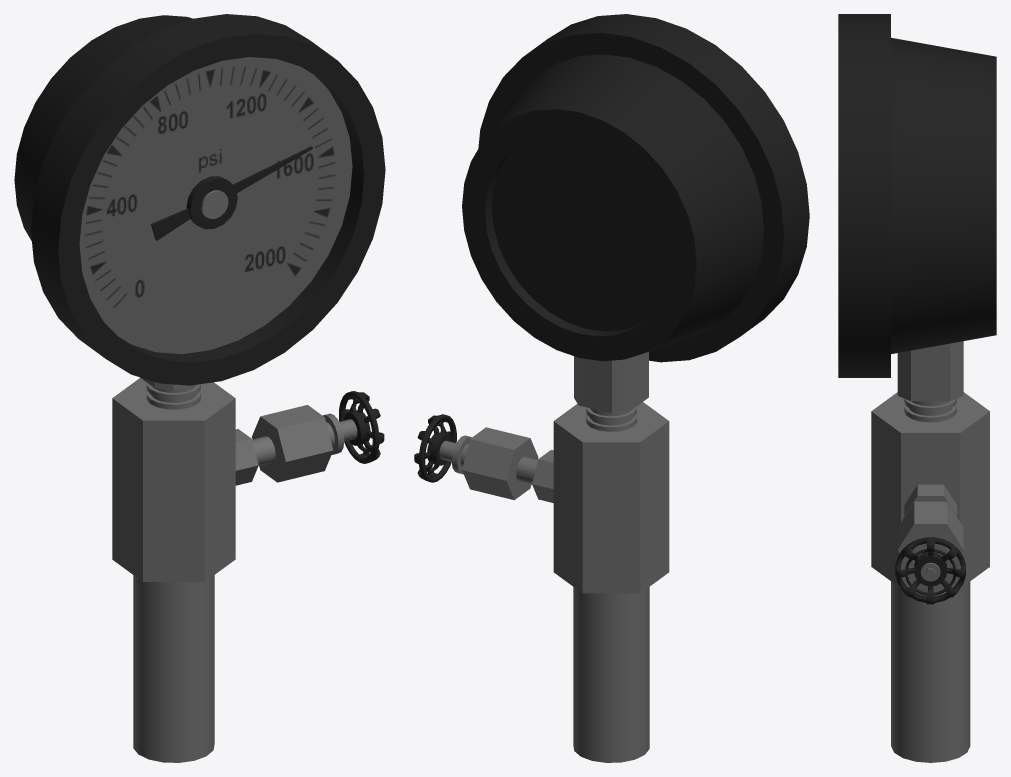
Rendered from pipe_gauge.glb.
3 views of the same model, side by side, from view 1: azimuth 30°, elevation 25°; view 2: azimuth 150°, elevation 25°; view 3: azimuth 270°, elevation 25° (orthographic). The views are drawn at different scales.
Visible parts, largest first — view 1: Cylinder.014, Cylinder.008, Cylinder.009; view 2: Cylinder.008, Cylinder.009; view 3: Cylinder.008, Cylinder.009.
Part boxes in pixels (<box>): Cylinder.014: <box>79,57,352,354</box>; Cylinder.008: <box>14,14,385,463</box>; Cylinder.009: <box>112,190,357,762</box>; Cylinder.008: <box>414,14,809,482</box>; Cylinder.009: <box>439,352,669,762</box>; Cylinder.008: <box>838,14,996,604</box>; Cylinder.009: <box>871,341,989,762</box>.
Size of the model in its own units: 15.08 by 29.9 by 6.
Materials: 3 (1 with a texture image).
